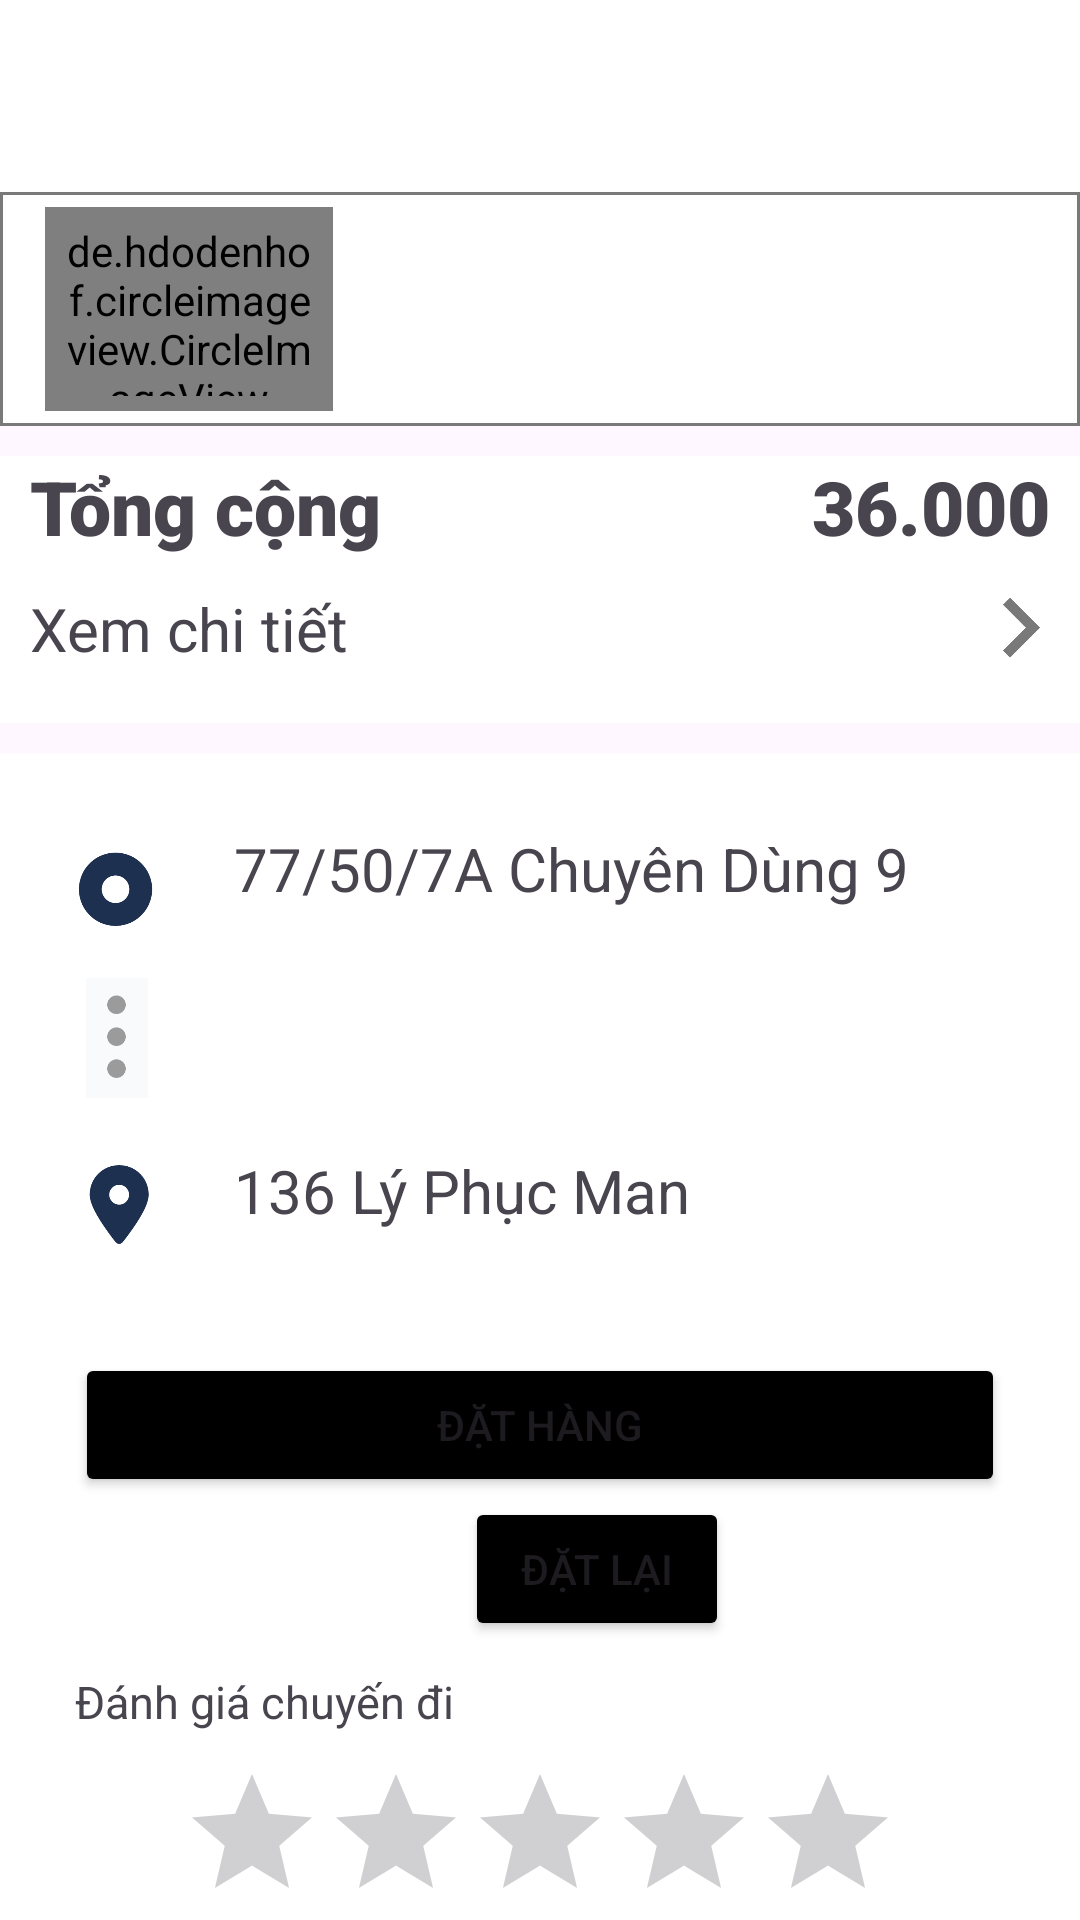

Icons on this 1080x1920 Android screen, each with the point to tap as (x,y):
next: (1021,627)
